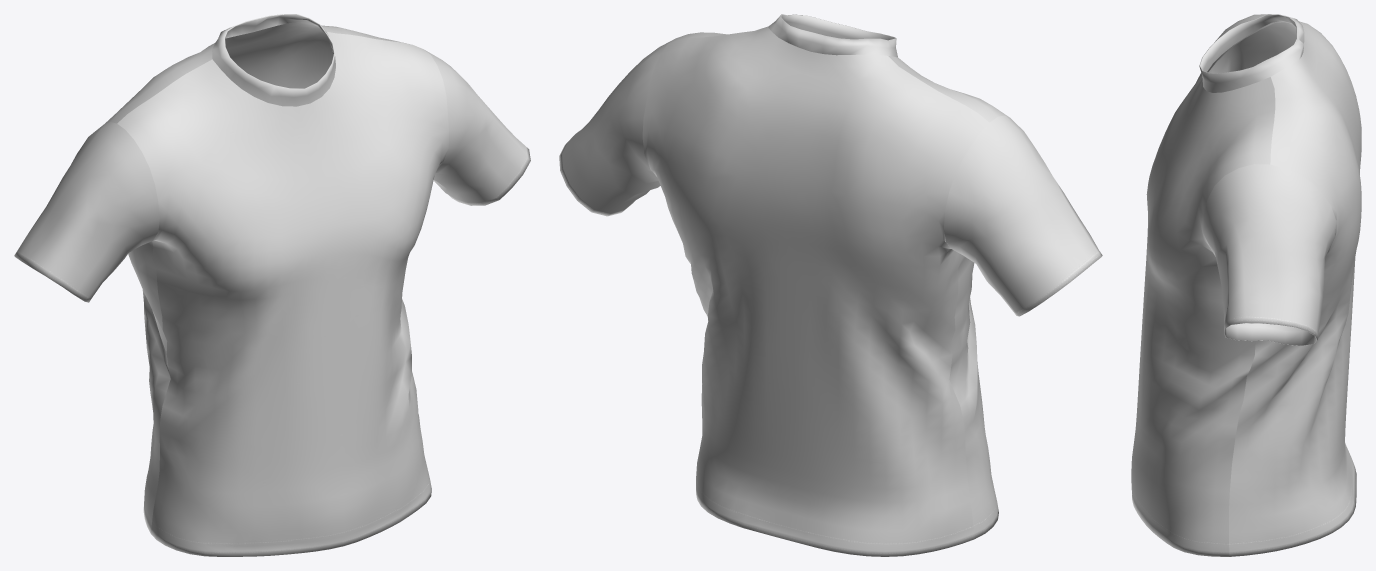
3 renders of one model, left to right at view 1: azimuth 30°, elevation 25°; view 2: azimuth 150°, elevation 25°; view 3: azimuth 270°, elevation 25°, orthographic. The views are drawn at different scales.
Visible parts, largest first — view 1: t-shirt_front, t-shirt_sleeve_right, t-shirt_sleeve_left, t-shirt_back, t-shirt_inside, t-shirt_collar; view 2: t-shirt_back, t-shirt_sleeve_right, t-shirt_sleeve_left, t-shirt_front, t-shirt_collar; view 3: t-shirt_front, t-shirt_back, t-shirt_sleeve_left, t-shirt_collar, t-shirt_inside.
Part boxes in pixels (x1,y1,x2,y2): t-shirt_front: (117, 32, 448, 556); t-shirt_sleeve_right: (14, 122, 159, 302); t-shirt_sleeve_left: (425, 50, 530, 205); t-shirt_back: (105, 25, 406, 532); t-shirt_inside: (225, 22, 333, 88); t-shirt_collar: (212, 14, 335, 106); t-shirt_back: (642, 26, 989, 556); t-shirt_sleeve_right: (944, 115, 1102, 316); t-shirt_sleeve_left: (559, 38, 675, 216); t-shirt_front: (668, 32, 1009, 538); t-shirt_collar: (768, 14, 897, 57); t-shirt_front: (1131, 14, 1275, 556); t-shirt_back: (1229, 21, 1361, 556); t-shirt_sleeve_left: (1202, 164, 1336, 345); t-shirt_collar: (1199, 14, 1304, 92); t-shirt_inside: (1207, 21, 1305, 505).
Size of the model in its own units: 0.6533 by 0.59 by 0.2648.
Materials: 2 (2 with a texture image).
